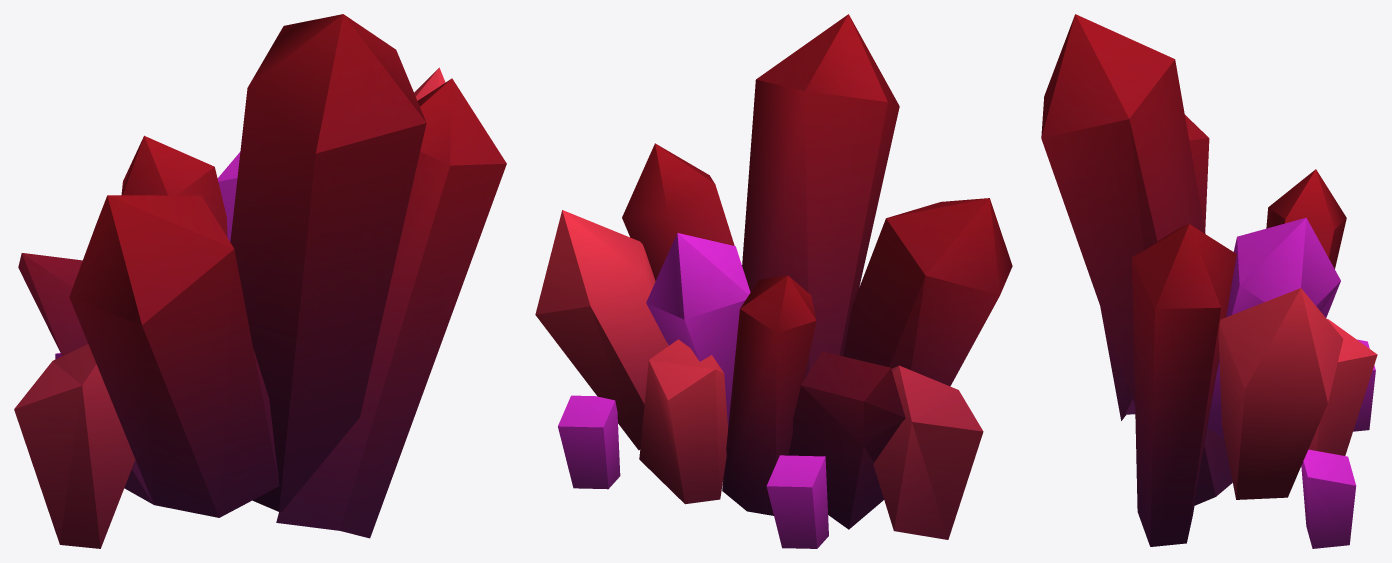
The model's file is ZLP_Crystalk_B_9.FBX.
The picture shows the model from 3 angles, left to right: view 1: azimuth 30°, elevation 25°; view 2: azimuth 150°, elevation 25°; view 3: azimuth 270°, elevation 25°; orthographic projection. The views are drawn at different scales.
Parts seen in each view (by area): view 1: ZLP_Crystalk_B_9; view 2: ZLP_Crystalk_B_9; view 3: ZLP_Crystalk_B_9.
Part boxes in pixels (box(x1,y1,x2,y2)): ZLP_Crystalk_B_9: box(14, 14, 506, 548); ZLP_Crystalk_B_9: box(535, 14, 1012, 548); ZLP_Crystalk_B_9: box(1041, 14, 1377, 548).
Bounding box in the file's own units: 152 × 169 × 103.
